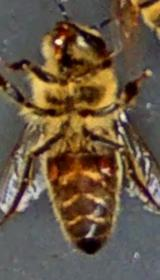varroa_mite: (90, 148, 120, 178), (42, 152, 60, 184)
